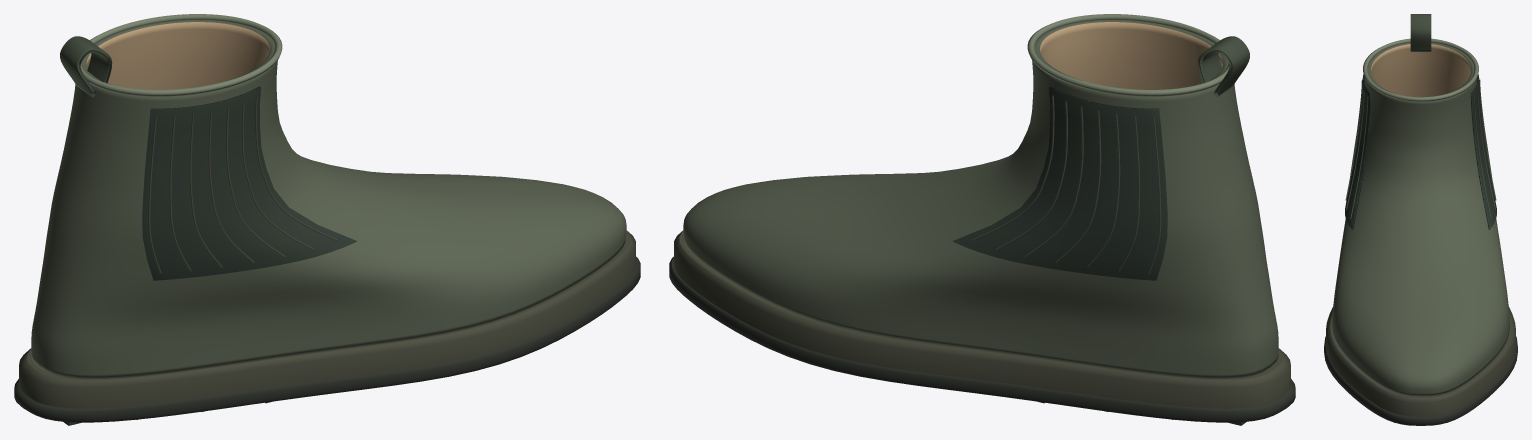
The model's file is ankle-boot.glb.
The picture shows the model from 3 angles, left to right: view 1: azimuth 30°, elevation 25°; view 2: azimuth 150°, elevation 25°; view 3: azimuth 270°, elevation 25°; orthographic projection. The views are drawn at different scales.
Parts seen in each view (by area): view 1: hollow-upper-and-open-collar, elastic-medial-gusset, layered-midsole, rubber-outsole, open-boot-collar, back-pull-loop; view 2: hollow-upper-and-open-collar, elastic-side-gusset, layered-midsole, rubber-outsole, open-boot-collar, back-pull-loop; view 3: hollow-upper-and-open-collar, layered-midsole, rubber-outsole, elastic-medial-gusset, elastic-side-gusset, open-boot-collar, back-pull-loop, elastic-rib-0.18-1, elastic-rib-0.18-0, elastic-rib-0.18-2, elastic-rib-0.65-6, elastic-rib-0.65-5 (+1 smaller).
Part boxes in pixels (x1,y1,x2,y2): hollow-upper-and-open-collar: [31, 19, 626, 378]; elastic-medial-gusset: [142, 86, 357, 280]; layered-midsole: [19, 230, 635, 408]; rubber-outsole: [14, 256, 640, 422]; open-boot-collar: [80, 14, 282, 96]; back-pull-loop: [60, 36, 112, 97]; hollow-upper-and-open-collar: [683, 19, 1278, 378]; elastic-side-gusset: [952, 86, 1167, 280]; layered-midsole: [674, 230, 1290, 408]; rubber-outsole: [669, 256, 1295, 422]; open-boot-collar: [1027, 14, 1229, 96]; back-pull-loop: [1197, 36, 1249, 97]; hollow-upper-and-open-collar: [1332, 42, 1509, 396]; layered-midsole: [1326, 306, 1515, 416]; rubber-outsole: [1324, 336, 1517, 425]; elastic-medial-gusset: [1345, 74, 1371, 229]; elastic-side-gusset: [1470, 74, 1496, 229]; open-boot-collar: [1363, 38, 1478, 101]; back-pull-loop: [1410, 14, 1431, 51]; elastic-rib-0.18-1: [1477, 90, 1495, 209]; elastic-rib-0.18-0: [1473, 95, 1491, 218]; elastic-rib-0.18-2: [1479, 85, 1496, 200]; elastic-rib-0.65-6: [1350, 95, 1368, 218]; elastic-rib-0.65-5: [1346, 90, 1364, 209].
Bounding box in the file's own units: 0.253 × 0.145 × 0.1053.
